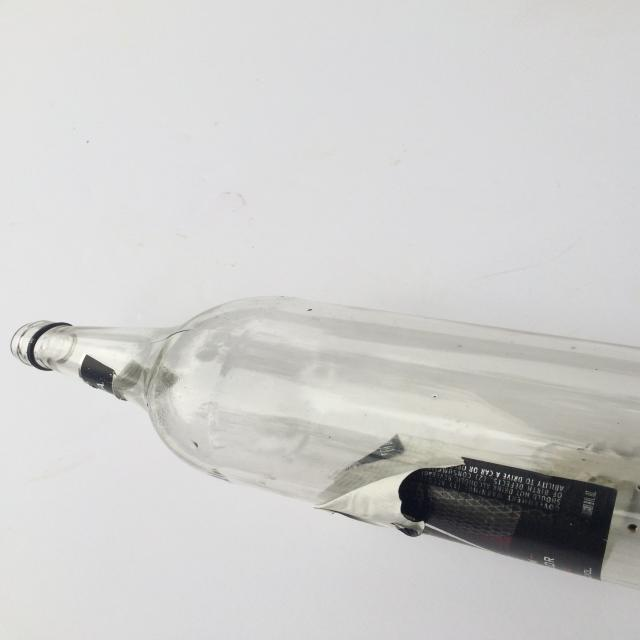glass: (9, 293, 640, 597)
